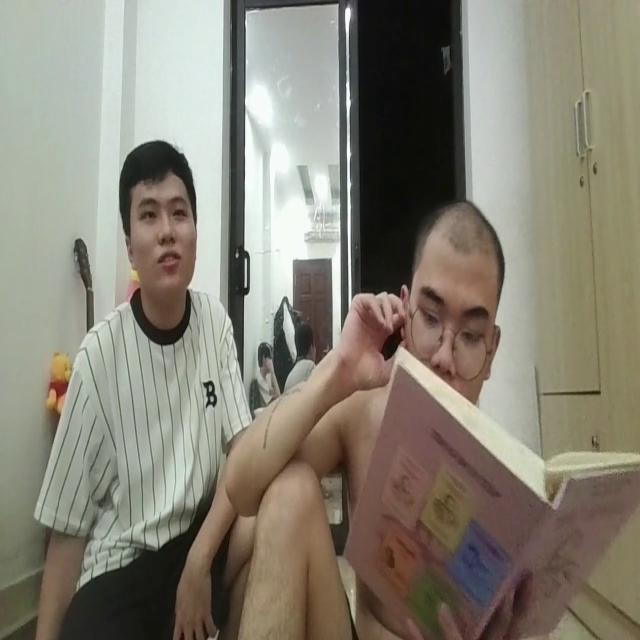book: (349, 343, 640, 636)
extra_person: (22, 113, 252, 640)
student: (233, 193, 552, 640)
